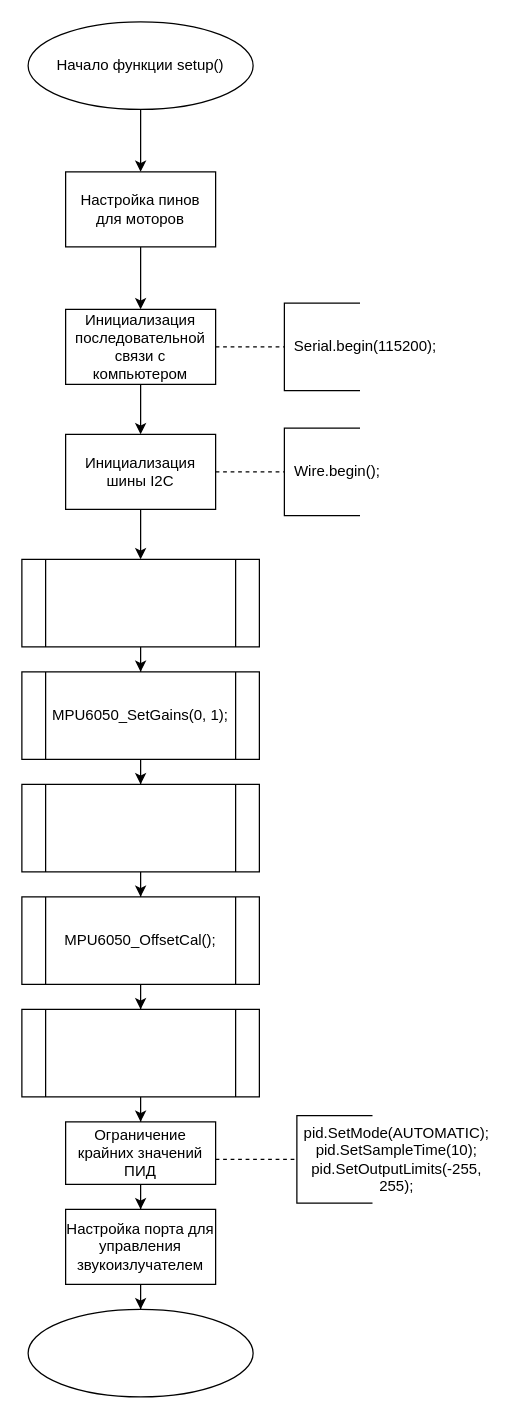
Image size: 511x1419. Some labels were removed from this diagram. Each missing label, with the centre of its shape:
MPU6050_ResetWake();: point 140,602
MPU6050_SetDLPF(0);: point 140,827
MPU6050_SetDLPF(6);: point 140,1052
Конец функции setup(): point 140,1352
